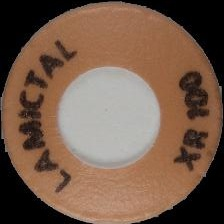0173-0760: (0, 0, 224, 224)
